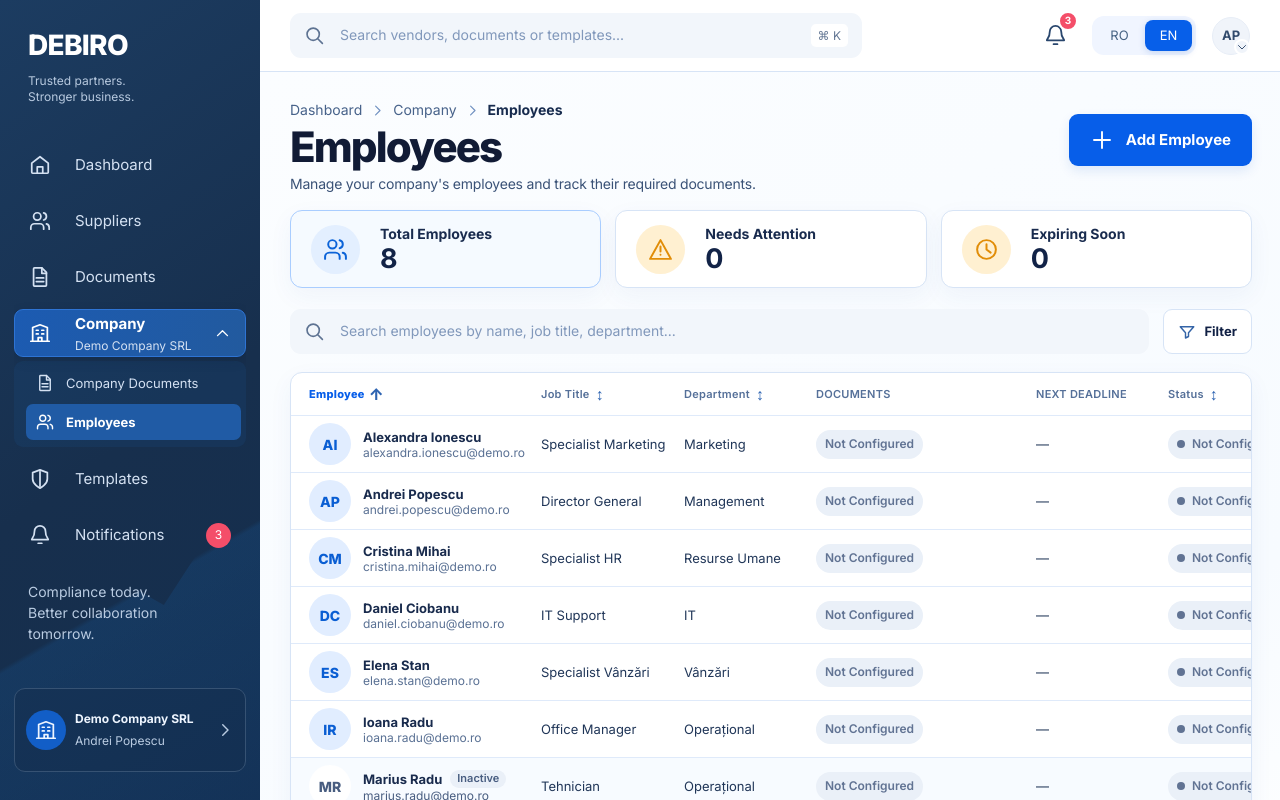
Test: Employees shared list/drawer UI › renders localized shared list controls and truthful employee/document states in en
Expected: the heading reads "Employees", [290,121,501,172]
Expected: the text "Employees" is shown, [488,100,562,120]
Click the button "Filter".
click(1208, 332)  # box [1164,309,1252,354]
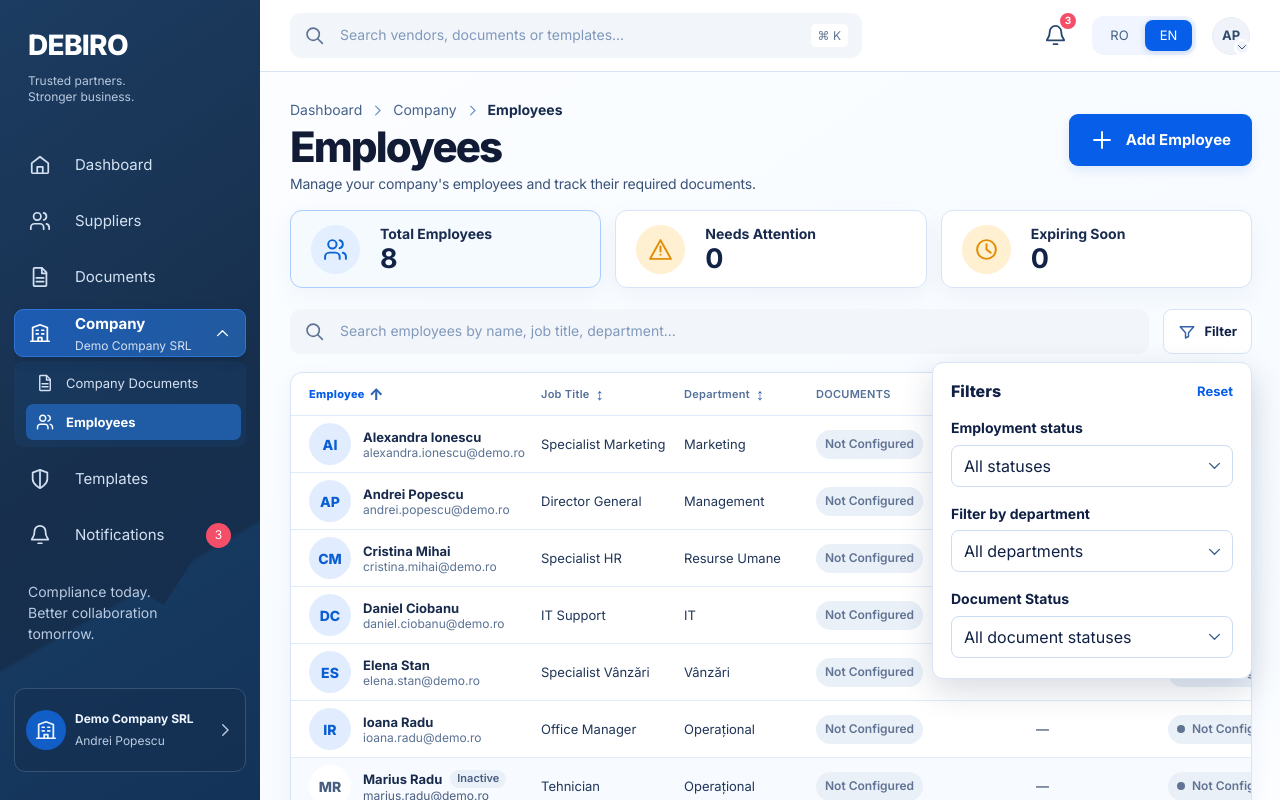
Expected: the dropdown labelled "Filter by department" is shown, [951,530,1233,572]
